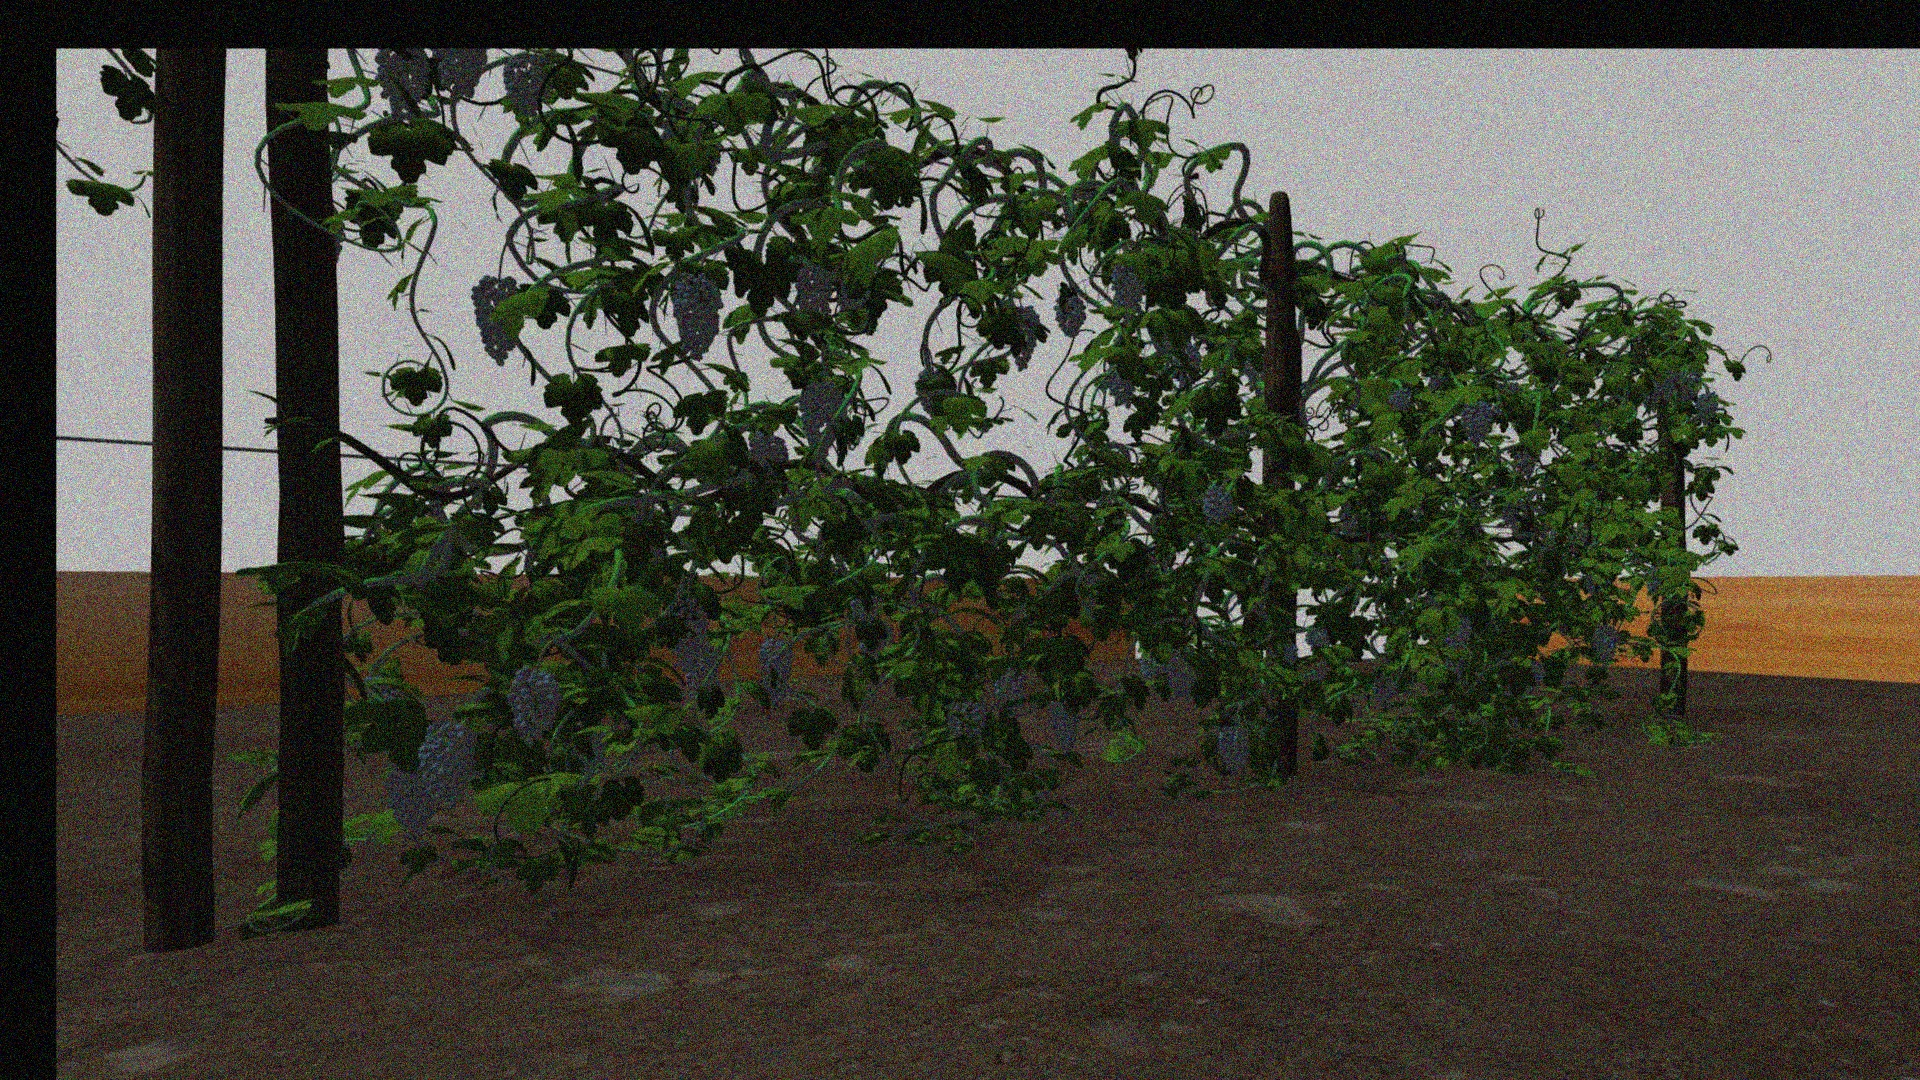grape: (465, 276, 524, 365), (506, 661, 563, 749), (669, 270, 723, 363), (419, 724, 481, 804), (382, 762, 438, 840), (375, 55, 430, 113), (665, 599, 708, 673), (504, 57, 553, 116), (796, 378, 844, 436), (1006, 305, 1043, 372), (1108, 260, 1146, 320), (758, 638, 794, 702), (435, 55, 487, 99), (795, 266, 832, 324), (1046, 698, 1083, 756), (686, 651, 723, 705), (1217, 725, 1255, 775), (1162, 655, 1199, 704), (1054, 291, 1087, 340), (1203, 477, 1236, 526), (948, 702, 989, 738), (994, 667, 1026, 713), (1462, 400, 1491, 447), (1371, 673, 1398, 713), (1593, 624, 1619, 663), (1651, 368, 1680, 404), (1447, 615, 1473, 649), (1387, 385, 1414, 415), (1696, 393, 1720, 423), (1304, 624, 1332, 649), (1138, 654, 1160, 676)
